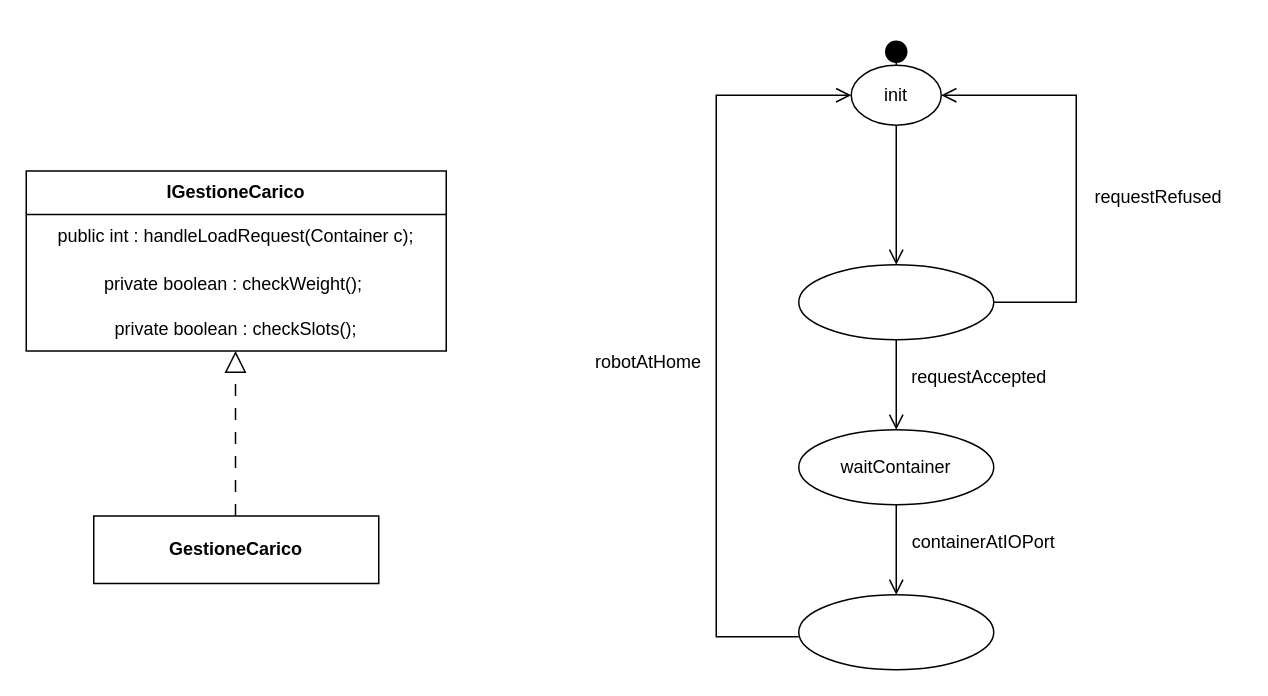
Image size: 1268x696. Some labels were removed from this diagram. The shapes that lost their labels are listed below. From the top down, each one's centre as x and y in pixels, then its label:
At (895,301): "handleLoadRequest".
At (895,631): "waitRobotAtHome".
